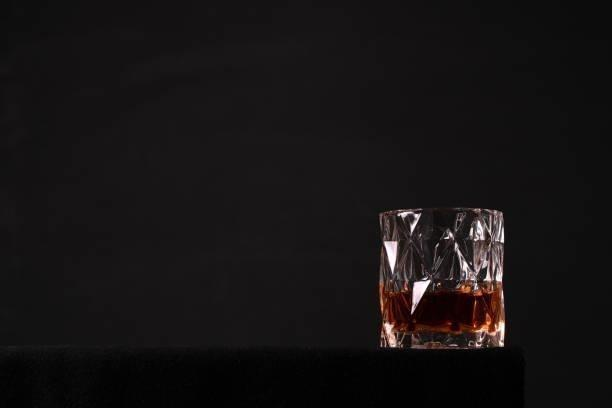glass-normal: (376, 203, 508, 352)
